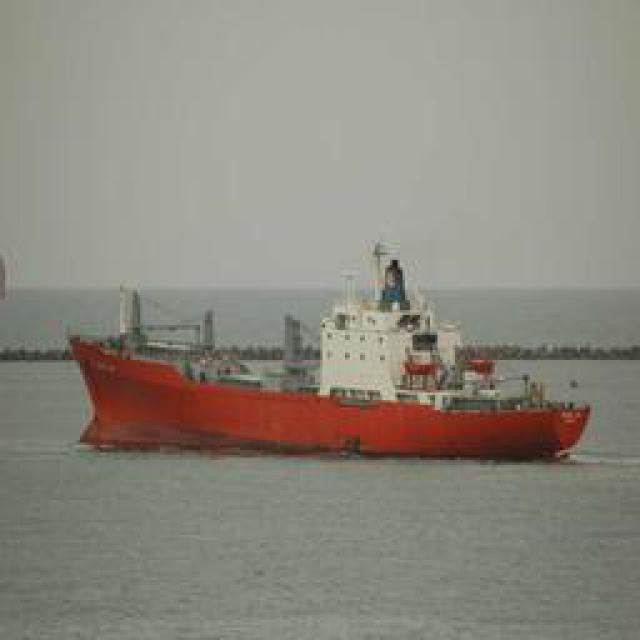Ship: (62, 236, 605, 464)
